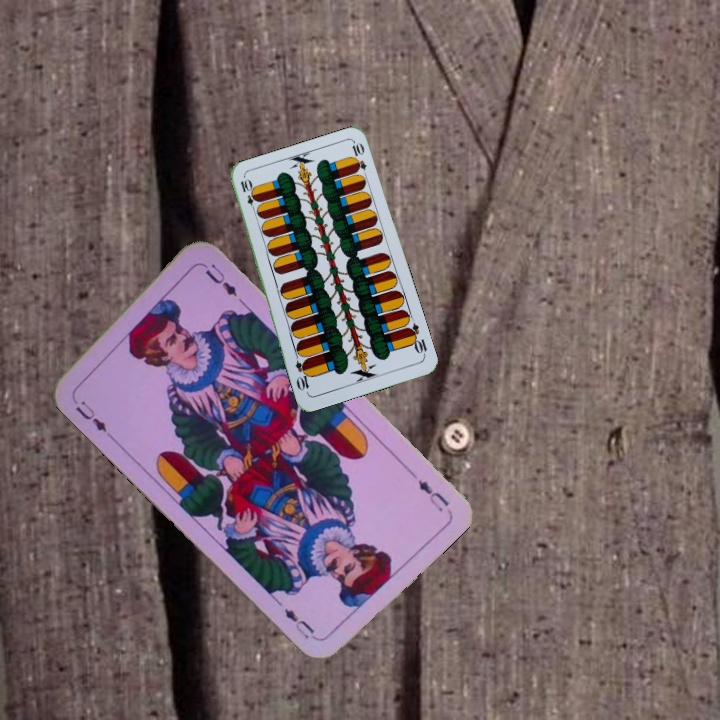E10: (403, 319, 430, 359), (236, 175, 260, 215)
EU: (67, 390, 110, 435), (414, 475, 452, 514)
